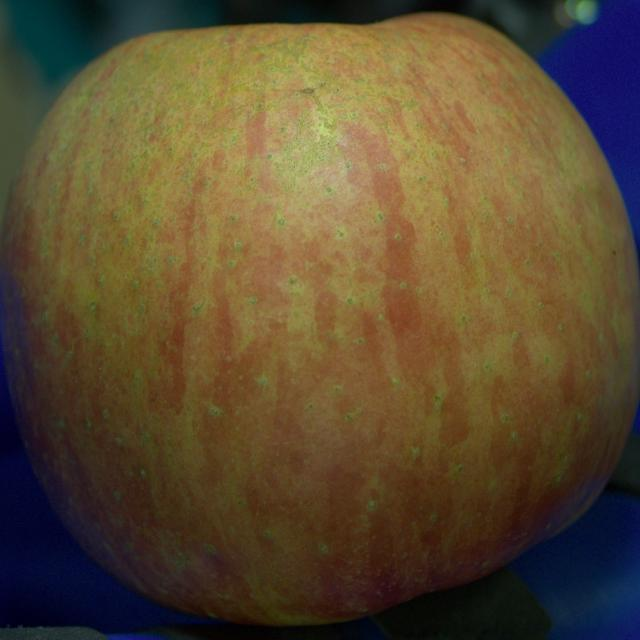apple: (0, 14, 639, 626)
